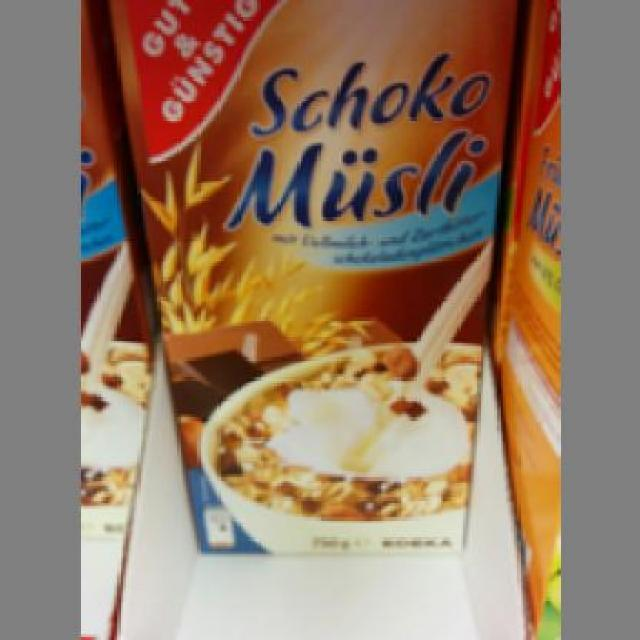Cereal: (104, 0, 512, 552)
